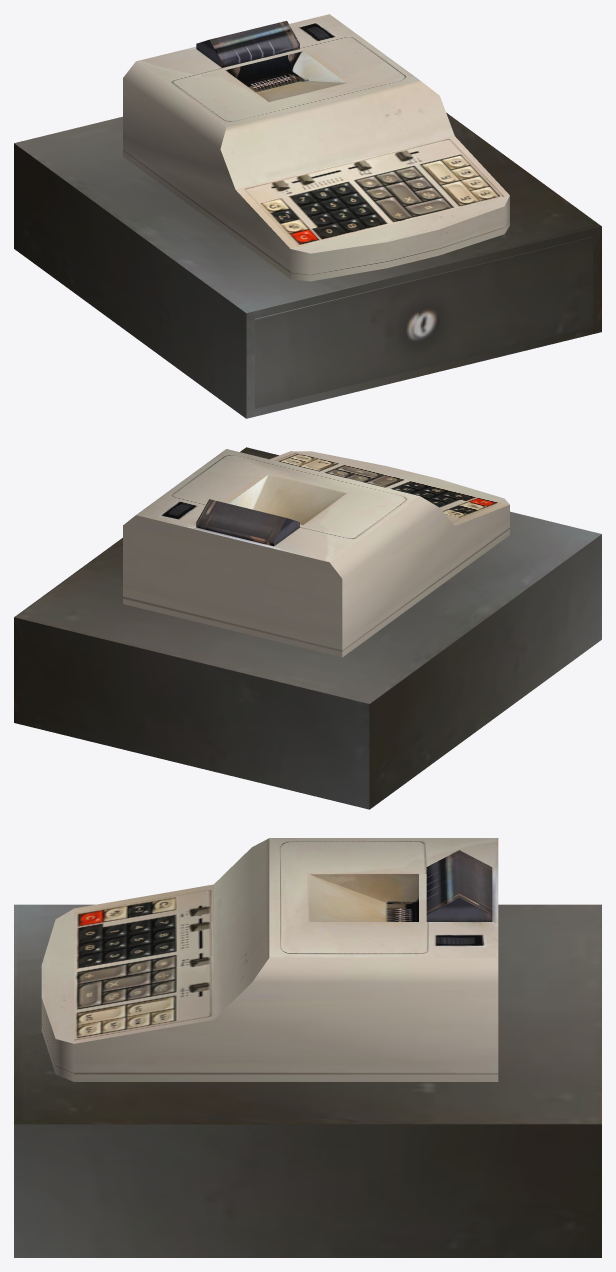
File: CashRegister.glb
The picture shows the model from 3 angles, top to bottom: view 1: azimuth 30°, elevation 25°; view 2: azimuth 150°, elevation 25°; view 3: azimuth 270°, elevation 25°; orthographic projection. The views are drawn at different scales.
Parts seen in each view (by area): view 1: AparKasowy, Szuflada, Szuflada2; view 2: Szuflada, AparKasowy; view 3: Szuflada, AparKasowy.
Boxes of the visible parts, x1,y1,x2,y2 form: AparKasowy: (123,14,509,281); Szuflada: (14,112,601,418); Szuflada2: (255,236,593,408); Szuflada: (14,447,601,809); AparKasowy: (123,449,509,657); Szuflada: (14,904,601,1257); AparKasowy: (41,838,498,1081).
Bounding box in the file's own units: 0.4552 × 0.2648 × 0.515.
3 materials, 3 textured.
